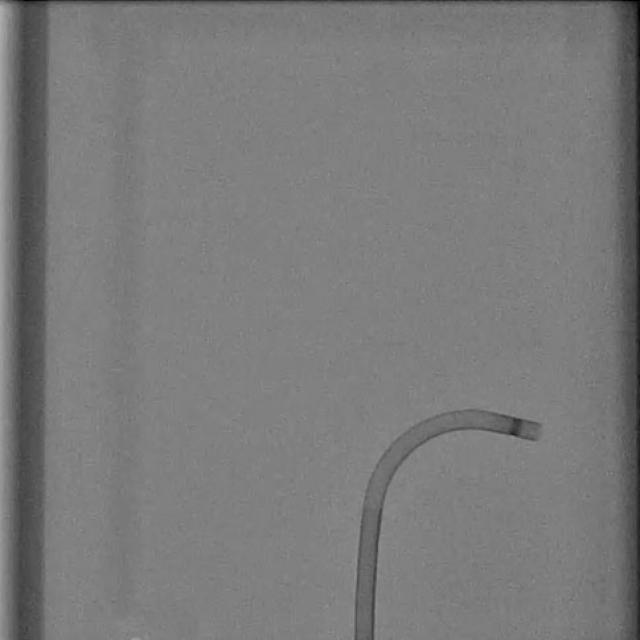bend: (363, 494, 385, 508)
entry: (355, 634, 374, 640)
marker: (508, 418, 524, 437)
tip: (534, 422, 542, 442)
